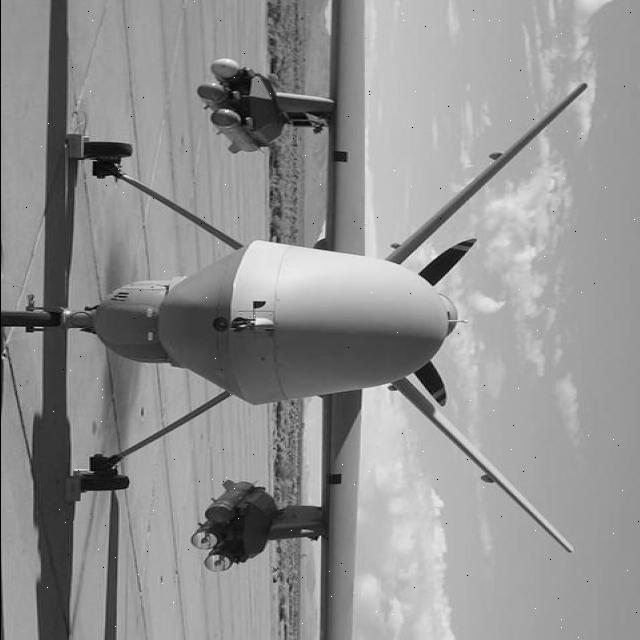MQ9: (1, 6, 626, 640)
